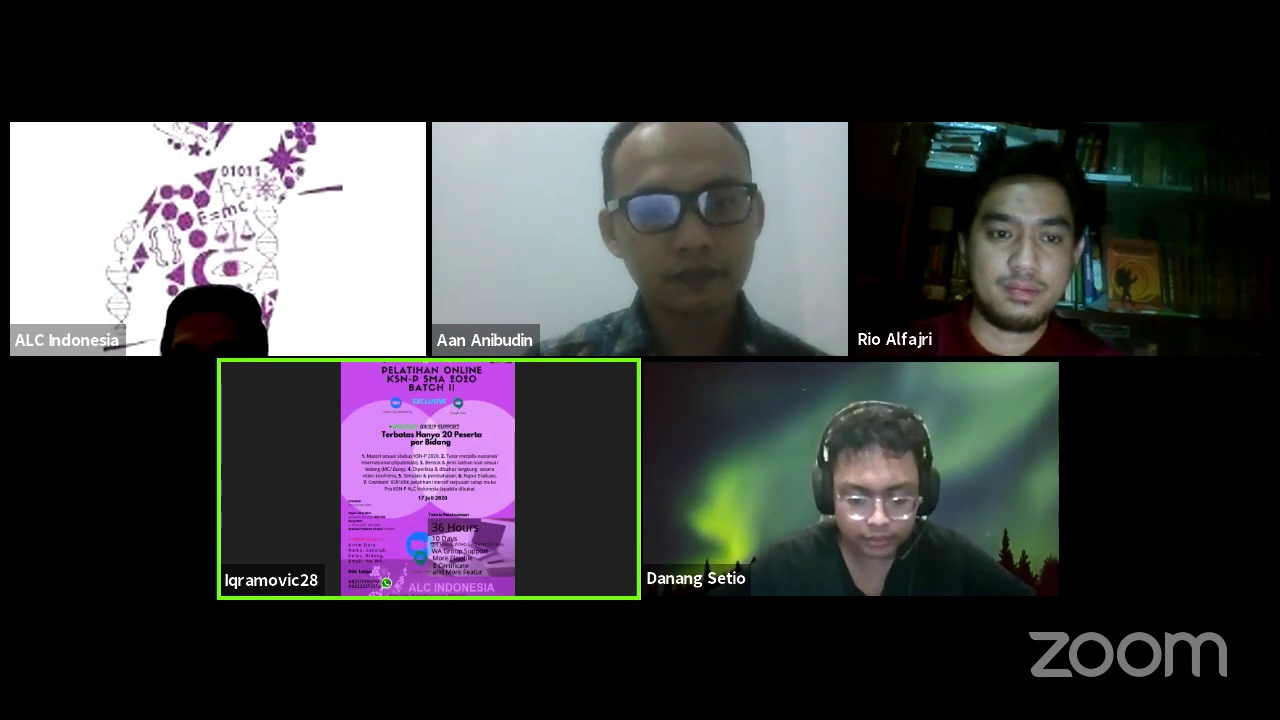Distracted: (803, 419, 938, 561)
Not Distracted: (592, 133, 783, 316), (961, 167, 1088, 328)
